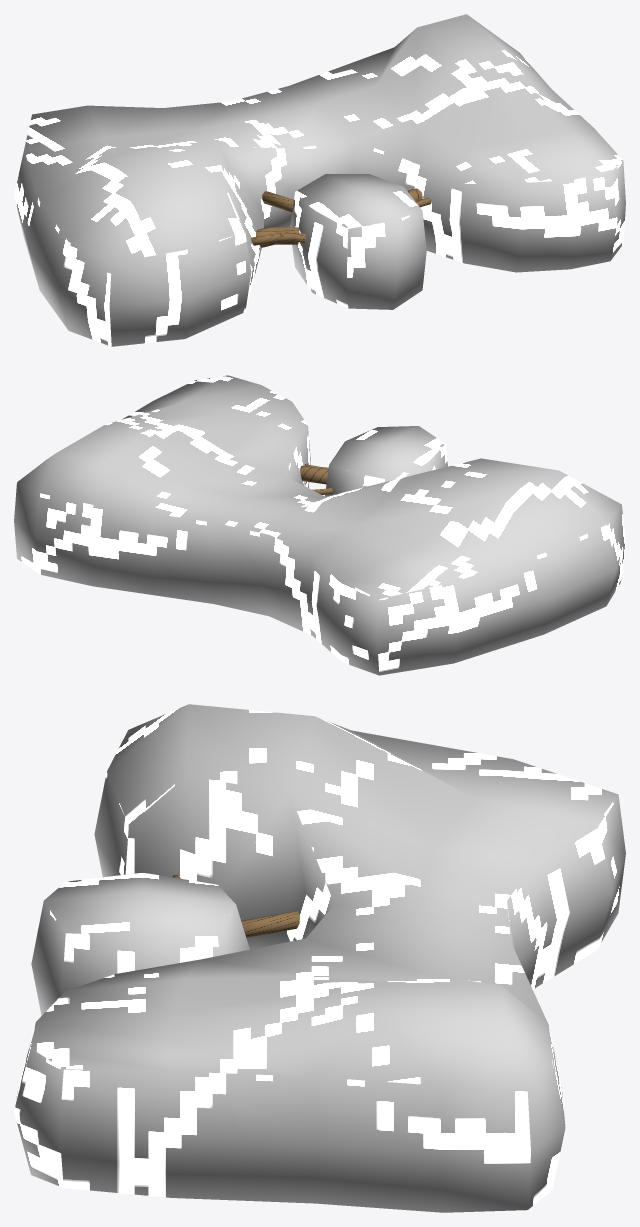
Rendered from PROJECT DREAM - Debris07.fbx.
3 renders of one model, top to bottom at view 1: azimuth 30°, elevation 25°; view 2: azimuth 150°, elevation 25°; view 3: azimuth 270°, elevation 25°, orthographic. The views are drawn at different scales.
Visible parts, largest first — view 1: Debris 07; view 2: Debris 07; view 3: Debris 07.
Boxes of the visible parts, x1=… form: Debris 07: x1=14, y1=14, x2=625, y2=346; Debris 07: x1=14, y1=375, x2=625, y2=675; Debris 07: x1=14, y1=704, x2=625, y2=1212.
Bounding box in the file's own units: 572 × 156 × 389.
2 materials, 1 textured.
